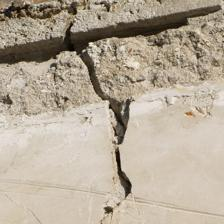Crack: (15, 39, 63, 116), (19, 46, 89, 96), (53, 96, 93, 127)
